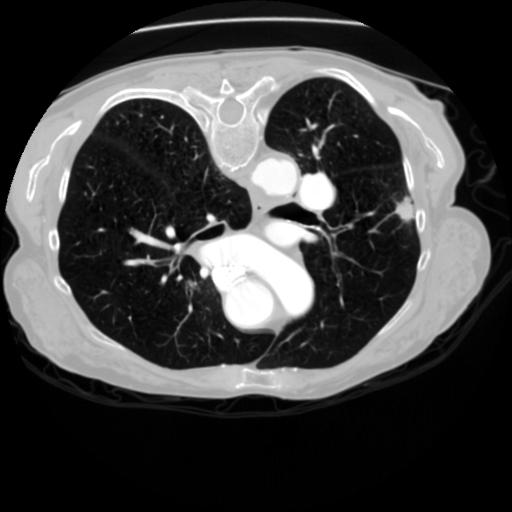nodule: (390, 198, 419, 227)
